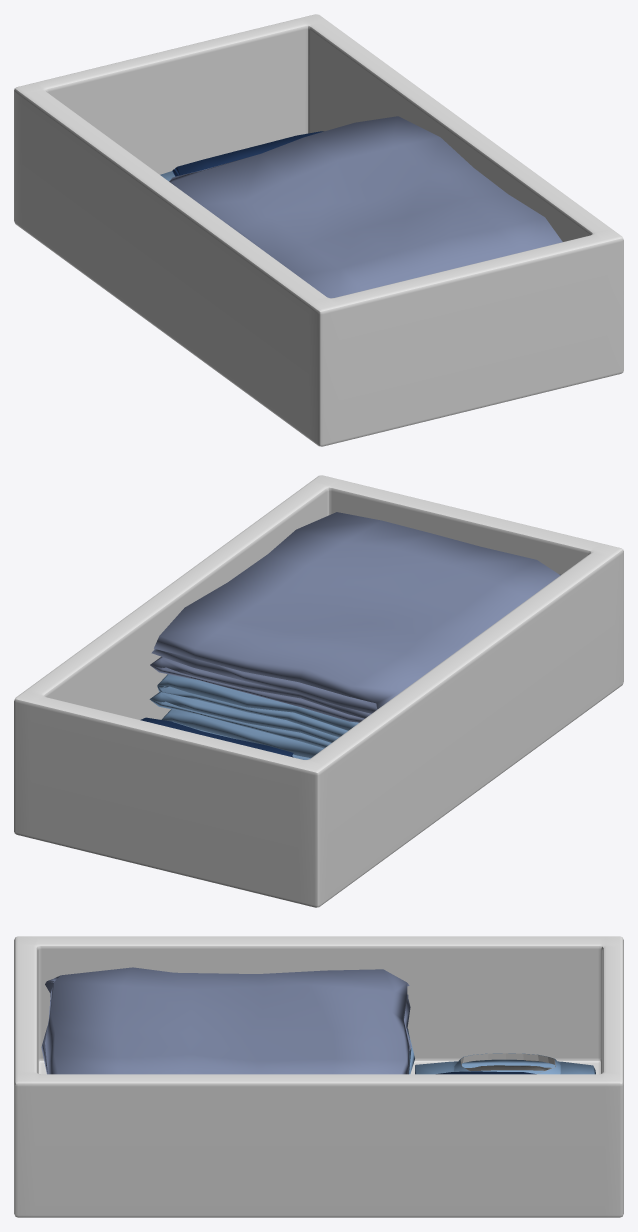
Rendered from bedDrawer1.fbx.
The picture shows the model from 3 angles, top to bottom: view 1: azimuth 30°, elevation 25°; view 2: azimuth 150°, elevation 25°; view 3: azimuth 270°, elevation 25°; orthographic projection.
Visible parts, largest first — view 1: pCube2, polySurface63, polySurface28; view 2: pCube2, polySurface63, polySurface61, polySurface55, polySurface60, polySurface56, polySurface28; view 3: pCube2, polySurface63, polySurface16, polySurface21, polySurface20.
Part boxes in pixels (bbox=[...]): pCube2: bbox=[14, 14, 623, 446]; polySurface63: bbox=[169, 116, 562, 298]; polySurface28: bbox=[172, 131, 323, 176]; pCube2: bbox=[14, 475, 623, 907]; polySurface63: bbox=[151, 512, 560, 713]; polySurface61: bbox=[157, 674, 358, 737]; polySurface55: bbox=[149, 692, 338, 748]; polySurface60: bbox=[150, 656, 371, 722]; polySurface56: bbox=[161, 709, 323, 759]; polySurface28: bbox=[140, 717, 293, 757]; pCube2: bbox=[14, 936, 623, 1217]; polySurface63: bbox=[41, 967, 411, 1074]; polySurface16: bbox=[415, 1053, 595, 1074]; polySurface21: bbox=[460, 1053, 555, 1074]; polySurface20: bbox=[465, 1065, 551, 1070].
Size of the model in its own units: 381 by 164 by 663.
